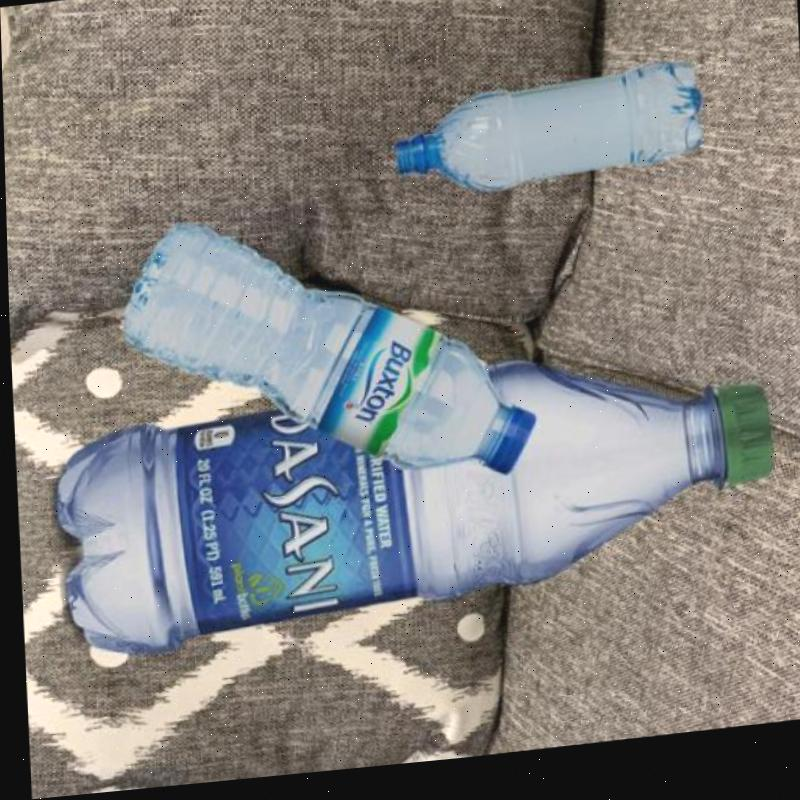botella: (49, 342, 773, 659), (112, 191, 535, 520), (390, 68, 705, 210)
